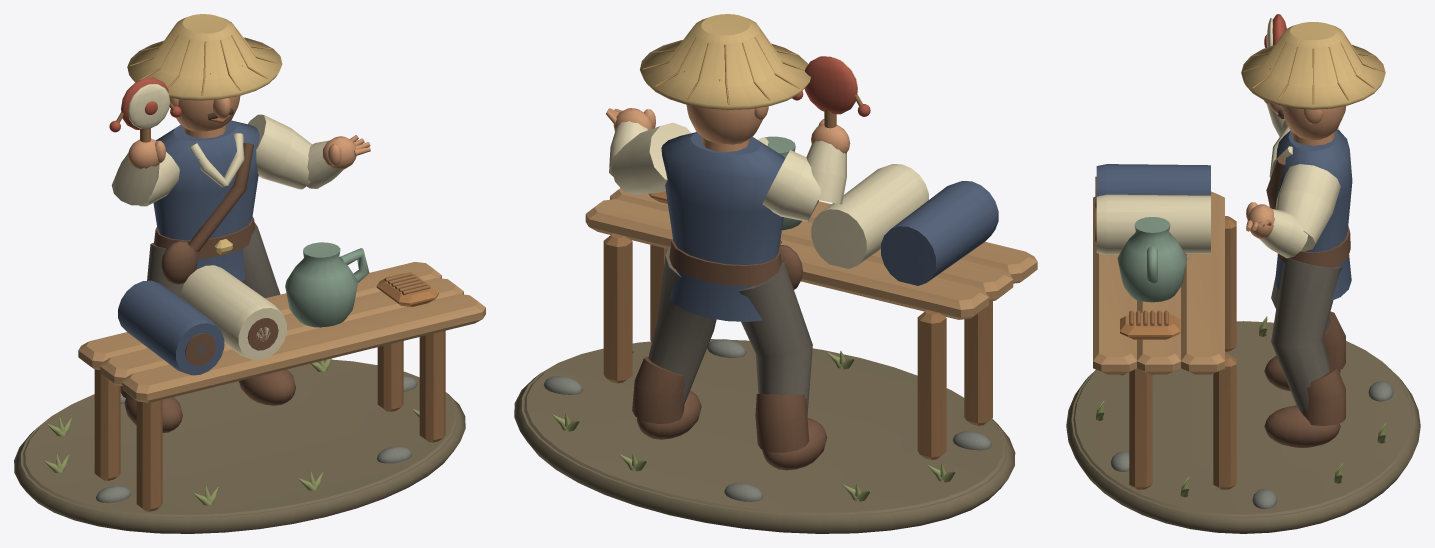
Rendered from peddler-stall.fbx.
3 renders of one model, left to right at view 1: azimuth 30°, elevation 25°; view 2: azimuth 150°, elevation 25°; view 3: azimuth 270°, elevation 25°, orthographic. The views are drawn at different scales.
Visible parts, largest first — view 1: peddler-stall.003; view 2: peddler-stall.003; view 3: peddler-stall.003.
Part boxes in pixels (x1,y1,x2,y2): peddler-stall.003: (14, 14, 485, 533); peddler-stall.003: (514, 14, 1037, 533); peddler-stall.003: (1066, 14, 1420, 533).
Size of the model in its own units: 0.0206 by 0.0191 by 0.0152.
Materials: 1 (1 with a texture image).
